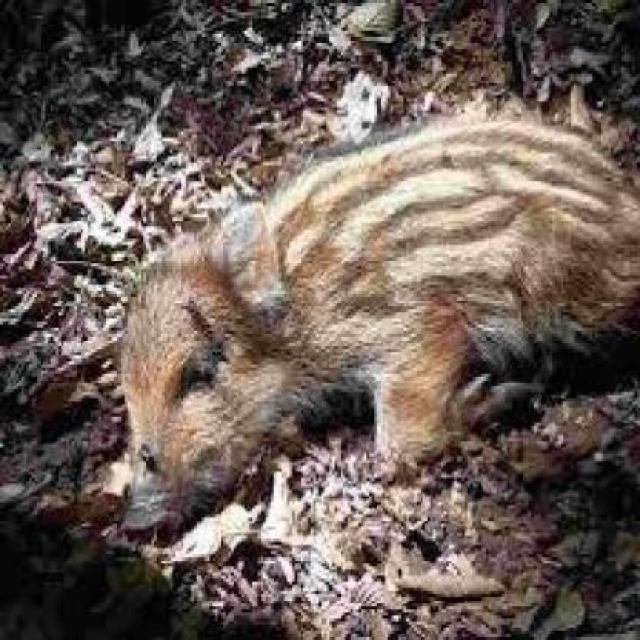wildboar: (111, 113, 640, 545)
